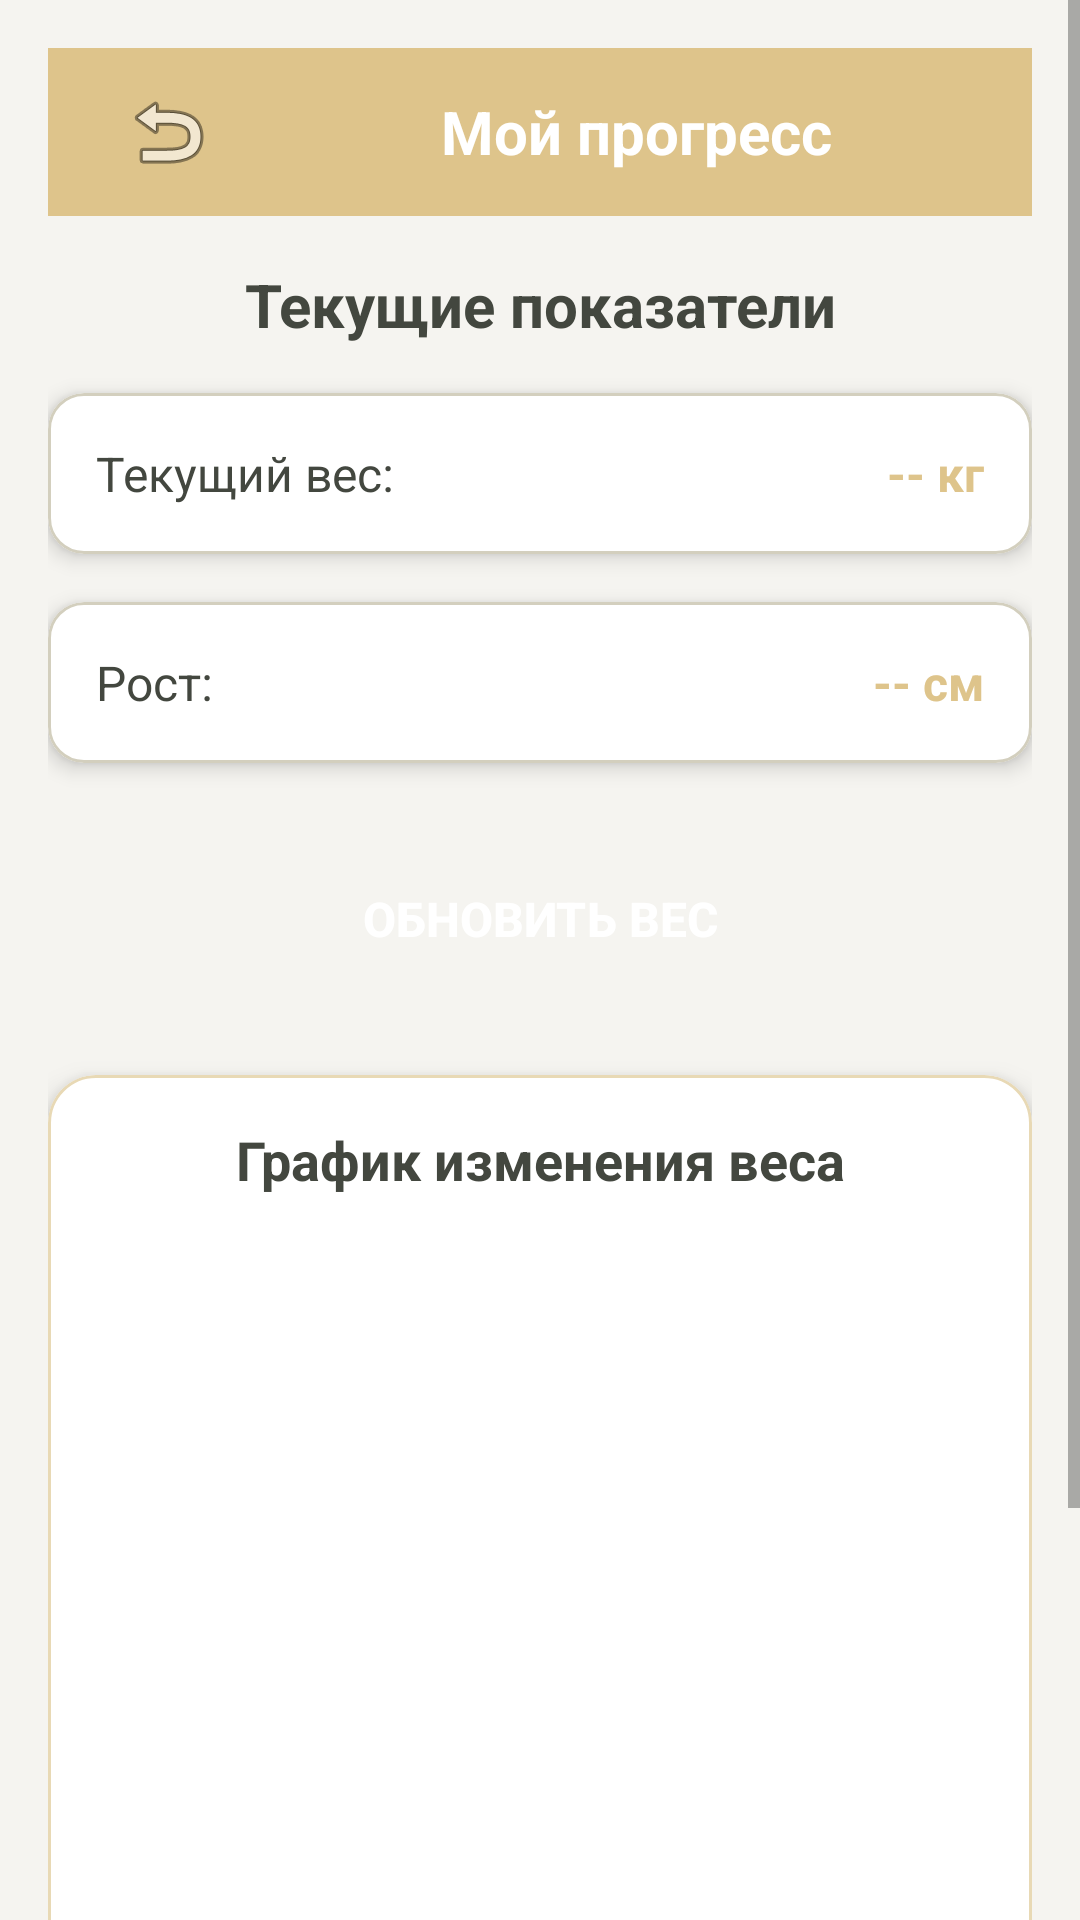

Locate icon controls on the screen. Image size 1080px x 1920px, boxes as [x1,y1,x2,y2].
Назад: [135,101,204,164]
